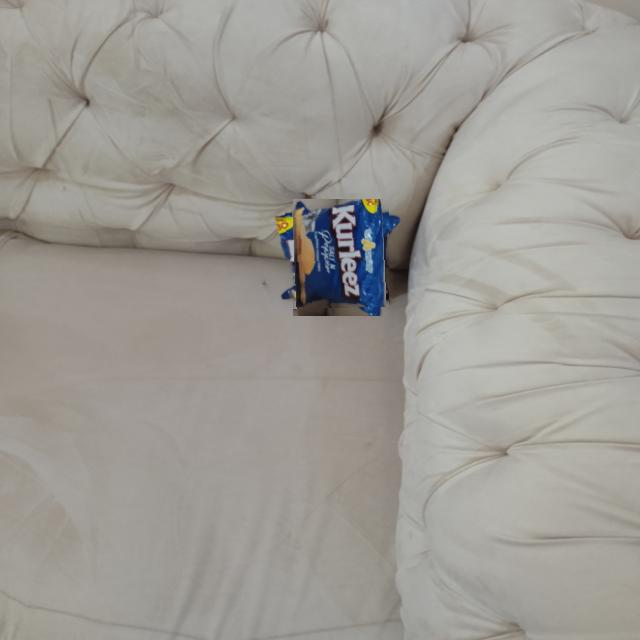Plastic: (286, 206, 390, 310)
